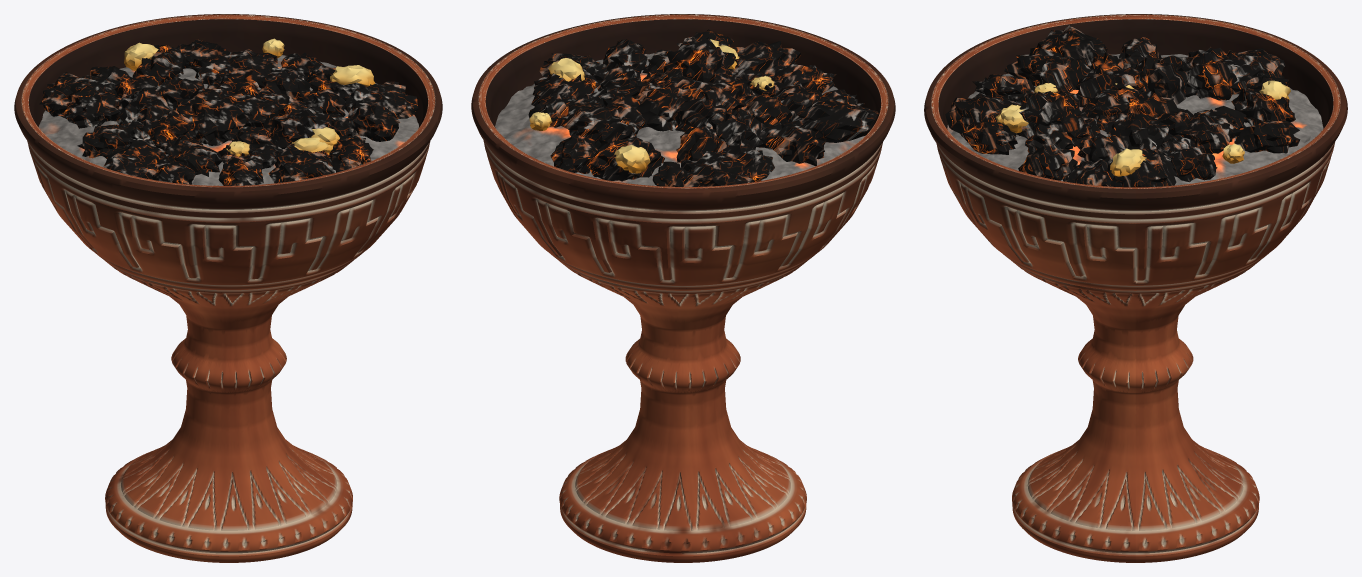
File: sahumador.glb
3 views of the same model, side by side, from view 1: azimuth 30°, elevation 25°; view 2: azimuth 150°, elevation 25°; view 3: azimuth 270°, elevation 25° (orthographic).
Visible parts, largest first — view 1: sahumador; view 2: sahumador; view 3: sahumador.
Part boxes in pixels (x1,y1,x2,y2): sahumador: (14, 14, 442, 562); sahumador: (471, 14, 895, 562); sahumador: (924, 14, 1347, 562).
Bounding box in the file's own units: 0.1207 × 0.1346 × 0.1198.
4 materials, 3 textured.
